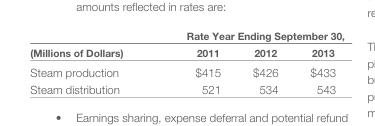table: (29, 29, 343, 95)
table column: (29, 29, 154, 95), (154, 29, 236, 95), (236, 29, 293, 95), (293, 29, 343, 95)
table column header: (29, 29, 343, 61)
table row: (29, 61, 343, 80), (29, 43, 343, 61), (29, 80, 343, 95), (29, 29, 343, 43)
table spanning cell: (29, 29, 154, 61), (154, 29, 343, 43)
